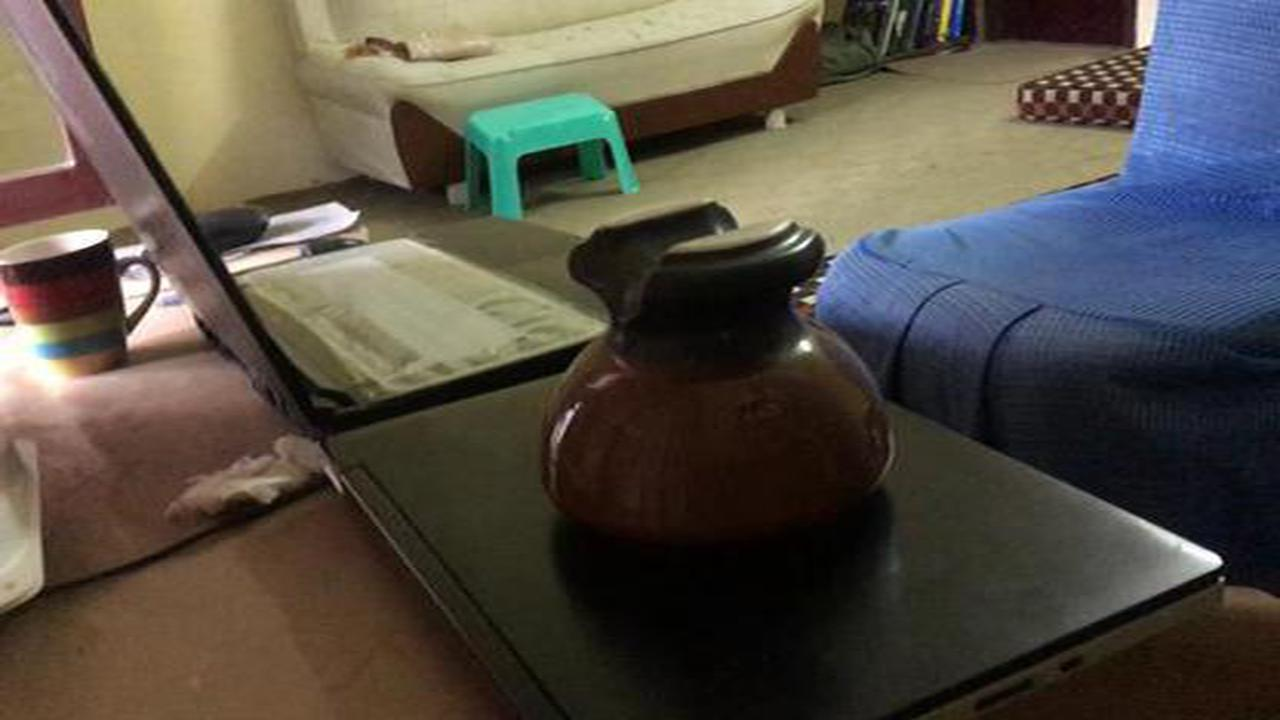insulator_pin: (517, 191, 921, 565)
